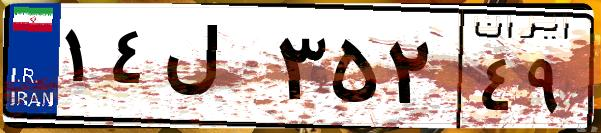1: (57, 26, 110, 100)
2: (385, 28, 445, 110)
3: (270, 28, 330, 110)
4: (475, 38, 525, 113), (110, 28, 158, 98)
5: (330, 28, 385, 110)
9: (525, 38, 570, 115)
ل: (158, 20, 270, 120)
